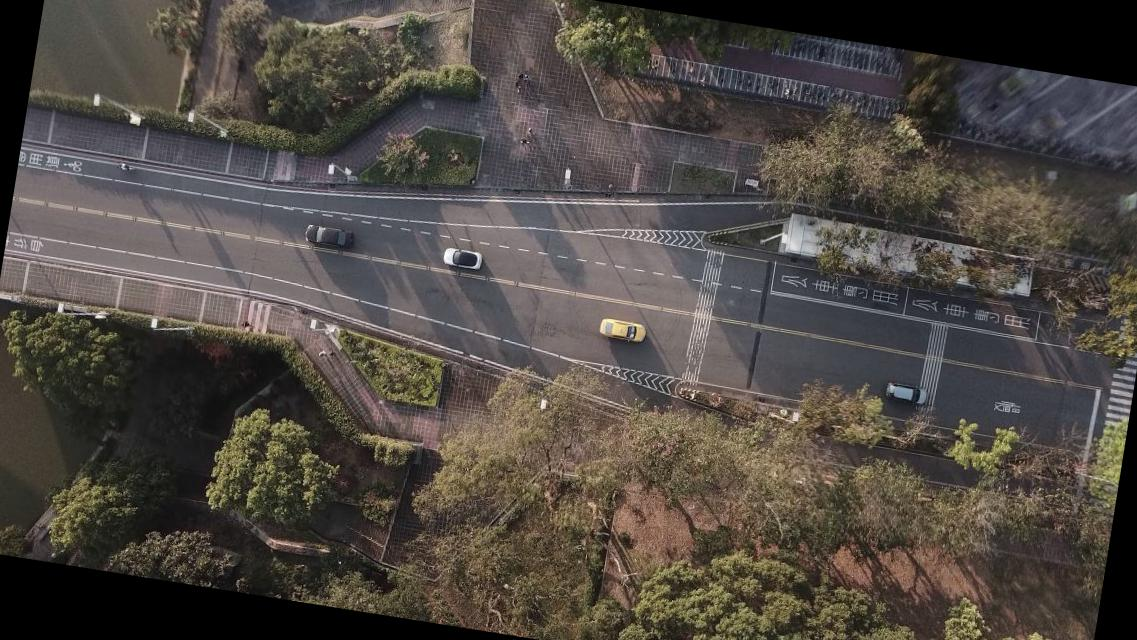vehicle: (303, 222, 355, 249), (598, 316, 647, 344), (883, 380, 928, 406), (442, 246, 483, 270)
